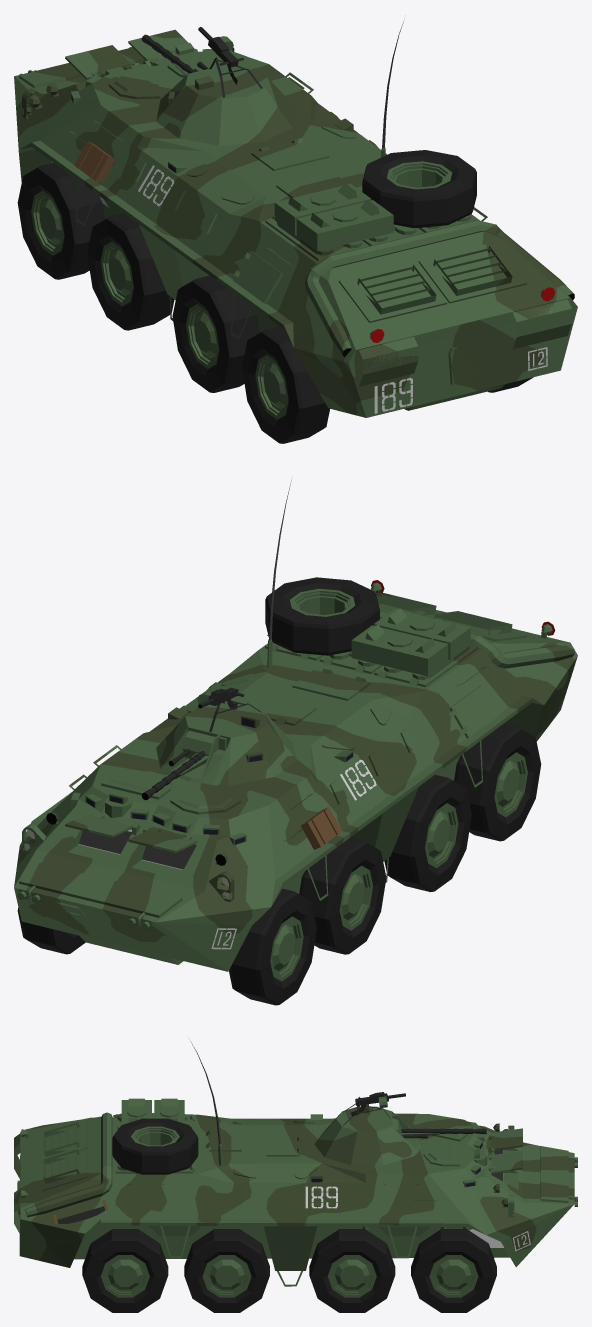
File: BTR-70.obj
The picture shows the model from 3 angles, top to bottom: view 1: azimuth 30°, elevation 25°; view 2: azimuth 150°, elevation 25°; view 3: azimuth 270°, elevation 25°; orthographic projection. The views are drawn at different scales.
Visible parts, largest first — view 1: ShapeIndexedFaceSet.014_ShapeIndexedFaceSet.015, ShapeIndexedFaceSet.015_ShapeIndexedFaceSet.016, ShapeIndexedFaceSet.018_ShapeIndexedFaceSet.019, ShapeIndexedFaceSet.065_ShapeIndexedFaceSet.066, ShapeIndexedFaceSet.019_ShapeIndexedFaceSet.020, ShapeIndexedFaceSet.062_ShapeIndexedFaceSet.063, ShapeIndexedFaceSet.037_ShapeIndexedFaceSet.038, ShapeIndexedFaceSet.043_ShapeIndexedFaceSet.044, ShapeIndexedFaceSet.023_ShapeIndexedFaceSet.024, ShapeIndexedFaceSet.024_ShapeIndexedFaceSet.025, ShapeIndexedFaceSet.020_ShapeIndexedFaceSet.021, ShapeIndexedFaceSet.049_ShapeIndexedFaceSet.050 (+9 smaller); view 2: ShapeIndexedFaceSet.014_ShapeIndexedFaceSet.015, ShapeIndexedFaceSet.015_ShapeIndexedFaceSet.016, ShapeIndexedFaceSet.018_ShapeIndexedFaceSet.019, ShapeIndexedFaceSet.065_ShapeIndexedFaceSet.066, ShapeIndexedFaceSet.062_ShapeIndexedFaceSet.063, ShapeIndexedFaceSet.043_ShapeIndexedFaceSet.044, ShapeIndexedFaceSet.037_ShapeIndexedFaceSet.038, ShapeIndexedFaceSet.019_ShapeIndexedFaceSet.020, ShapeIndexedFaceSet.023_ShapeIndexedFaceSet.024, ShapeIndexedFaceSet.024_ShapeIndexedFaceSet.025, ShapeIndexedFaceSet.027_ShapeIndexedFaceSet.028, ShapeIndexedFaceSet.011_ShapeIndexedFaceSet.012 (+10 smaller); view 3: ShapeIndexedFaceSet.014_ShapeIndexedFaceSet.015, ShapeIndexedFaceSet.015_ShapeIndexedFaceSet.016, ShapeIndexedFaceSet.018_ShapeIndexedFaceSet.019, ShapeIndexedFaceSet.046_ShapeIndexedFaceSet.047, ShapeIndexedFaceSet.040_ShapeIndexedFaceSet.041, ShapeIndexedFaceSet.062_ShapeIndexedFaceSet.063, ShapeIndexedFaceSet.019_ShapeIndexedFaceSet.020, ShapeIndexedFaceSet.024_ShapeIndexedFaceSet.025, ShapeIndexedFaceSet.065_ShapeIndexedFaceSet.066, ShapeIndexedFaceSet.020_ShapeIndexedFaceSet.021, ShapeIndexedFaceSet.042_ShapeIndexedFaceSet.043, ShapeIndexedFaceSet.048_ShapeIndexedFaceSet.049 (+11 smaller).
Part boxes in pixels (x1=…): ShapeIndexedFaceSet.014_ShapeIndexedFaceSet.015: x1=14, y1=43, x2=577, y2=419; ShapeIndexedFaceSet.015_ShapeIndexedFaceSet.016: x1=16, y1=47, x2=557, y2=415; ShapeIndexedFaceSet.018_ShapeIndexedFaceSet.019: x1=172, y1=275, x2=533, y2=443; ShapeIndexedFaceSet.065_ShapeIndexedFaceSet.066: x1=274, y1=161, x2=452, y2=251; ShapeIndexedFaceSet.019_ShapeIndexedFaceSet.020: x1=19, y1=47, x2=574, y2=415; ShapeIndexedFaceSet.062_ShapeIndexedFaceSet.063: x1=362, y1=150, x2=476, y2=228; ShapeIndexedFaceSet.037_ShapeIndexedFaceSet.038: x1=17, y1=162, x2=104, y2=279; ShapeIndexedFaceSet.043_ShapeIndexedFaceSet.044: x1=87, y1=213, x2=174, y2=330; ShapeIndexedFaceSet.023_ShapeIndexedFaceSet.024: x1=156, y1=36, x2=277, y2=145; ShapeIndexedFaceSet.024_ShapeIndexedFaceSet.025: x1=157, y1=78, x2=296, y2=143; ShapeIndexedFaceSet.020_ShapeIndexedFaceSet.021: x1=22, y1=50, x2=566, y2=353; ShapeIndexedFaceSet.049_ShapeIndexedFaceSet.050: x1=65, y1=35, x2=188, y2=79; ShapeIndexedFaceSet.014_ShapeIndexedFaceSet.015: x1=14, y1=589, x2=577, y2=971; ShapeIndexedFaceSet.015_ShapeIndexedFaceSet.016: x1=17, y1=592, x2=574, y2=941; ShapeIndexedFaceSet.018_ShapeIndexedFaceSet.019: x1=384, y1=724, x2=541, y2=892; ShapeIndexedFaceSet.065_ShapeIndexedFaceSet.066: x1=290, y1=588, x2=470, y2=676; ShapeIndexedFaceSet.062_ShapeIndexedFaceSet.063: x1=265, y1=577, x2=379, y2=655; ShapeIndexedFaceSet.043_ShapeIndexedFaceSet.044: x1=299, y1=837, x2=386, y2=954; ShapeIndexedFaceSet.037_ShapeIndexedFaceSet.038: x1=229, y1=888, x2=316, y2=1005; ShapeIndexedFaceSet.019_ShapeIndexedFaceSet.020: x1=19, y1=582, x2=574, y2=929; ShapeIndexedFaceSet.023_ShapeIndexedFaceSet.024: x1=156, y1=692, x2=296, y2=785; ShapeIndexedFaceSet.024_ShapeIndexedFaceSet.025: x1=160, y1=715, x2=296, y2=785; ShapeIndexedFaceSet.027_ShapeIndexedFaceSet.028: x1=171, y1=694, x2=265, y2=779; ShapeIndexedFaceSet.011_ShapeIndexedFaceSet.012: x1=79, y1=829, x2=196, y2=869; ShapeIndexedFaceSet.014_ShapeIndexedFaceSet.015: x1=14, y1=1113, x2=574, y2=1297; ShapeIndexedFaceSet.015_ShapeIndexedFaceSet.016: x1=14, y1=1113, x2=574, y2=1267; ShapeIndexedFaceSet.018_ShapeIndexedFaceSet.019: x1=82, y1=1229, x2=269, y2=1312; ShapeIndexedFaceSet.046_ShapeIndexedFaceSet.047: x1=309, y1=1229, x2=395, y2=1312; ShapeIndexedFaceSet.040_ShapeIndexedFaceSet.041: x1=411, y1=1229, x2=496, y2=1312; ShapeIndexedFaceSet.062_ShapeIndexedFaceSet.063: x1=112, y1=1118, x2=198, y2=1174; ShapeIndexedFaceSet.019_ShapeIndexedFaceSet.020: x1=17, y1=1112, x2=577, y2=1294; ShapeIndexedFaceSet.024_ShapeIndexedFaceSet.025: x1=314, y1=1131, x2=411, y2=1165; ShapeIndexedFaceSet.065_ShapeIndexedFaceSet.066: x1=121, y1=1098, x2=184, y2=1146; ShapeIndexedFaceSet.020_ShapeIndexedFaceSet.021: x1=17, y1=1116, x2=512, y2=1215; ShapeIndexedFaceSet.042_ShapeIndexedFaceSet.043: x1=429, y1=1255, x2=478, y2=1297; ShapeIndexedFaceSet.048_ShapeIndexedFaceSet.049: x1=327, y1=1255, x2=376, y2=1297.
Size of the model in its own units: 28.56 by 38.01 by 75.65.
